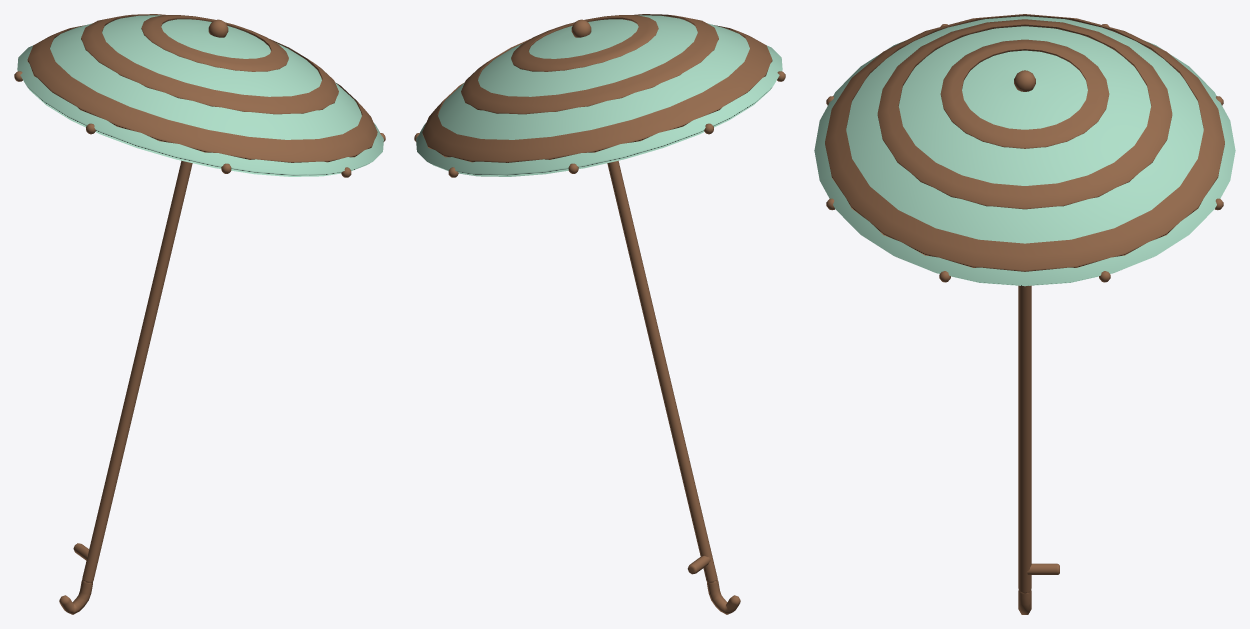
Rendered from mint_umbrella.glb.
3 renders of one model, left to right at view 1: azimuth 30°, elevation 25°; view 2: azimuth 150°, elevation 25°; view 3: azimuth 270°, elevation 25°, orthographic. The views are drawn at different scales.
Parts seen in each view (by area): view 1: mint_umbrella_ArmR; view 2: mint_umbrella_ArmR; view 3: mint_umbrella_ArmR.
Boxes of the visible parts, x1,y1,x2,y2 form: mint_umbrella_ArmR: (14,14,385,614); mint_umbrella_ArmR: (414,14,785,614); mint_umbrella_ArmR: (814,14,1235,614).
Bounding box in the file's own units: 0.8703 × 1.47 × 0.9.
